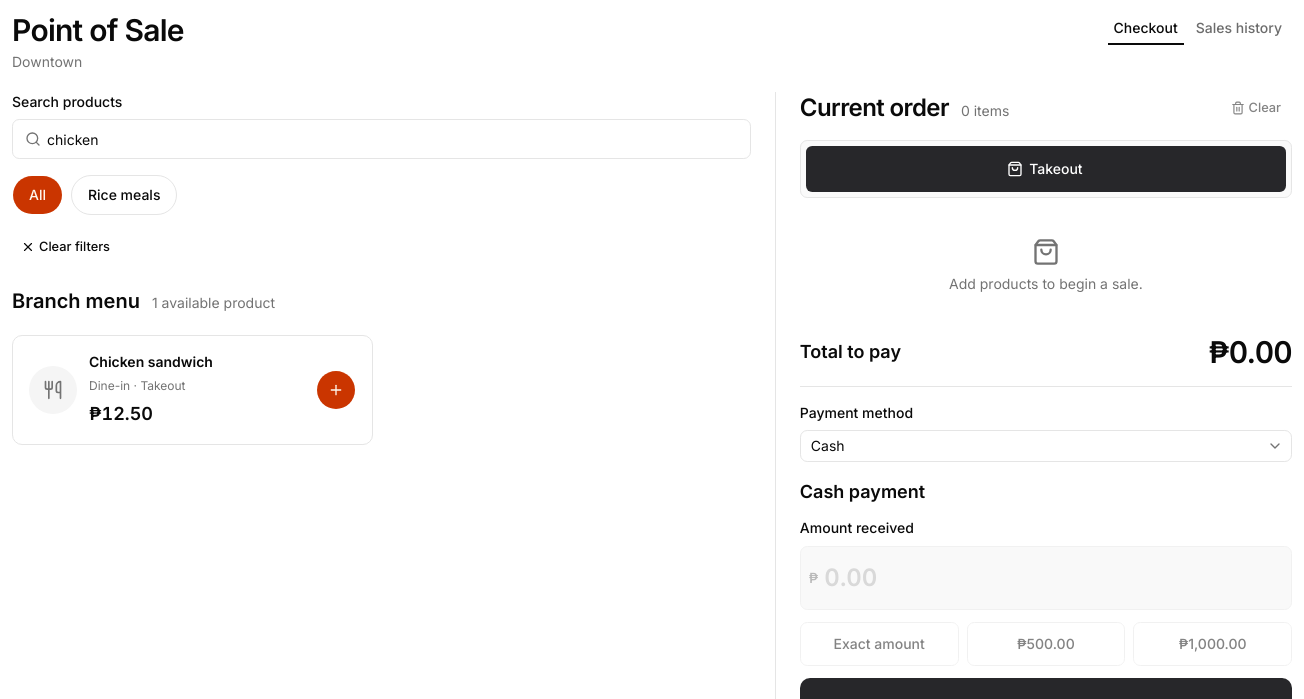
Test: POS management › opens selected sale details in a dialog and closes only that query selection
Later steps or results of the test are not shown.
What coordinates should you click on to do the following:
click the button named "Add Chicken sandwich"
I would click on:
 (336, 390)
Its box is [316, 370, 356, 410].
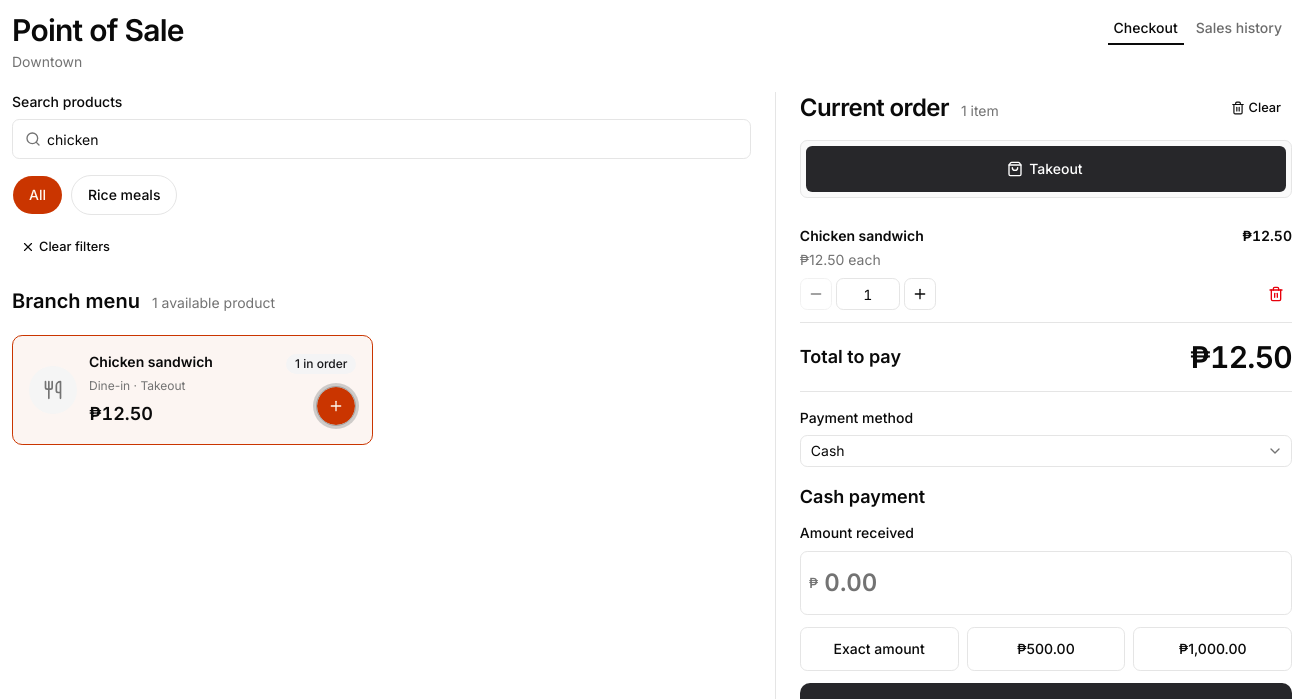
Check: the field named "Quantity for Chicken sandwich" holds "1", box [836, 278, 900, 310]
